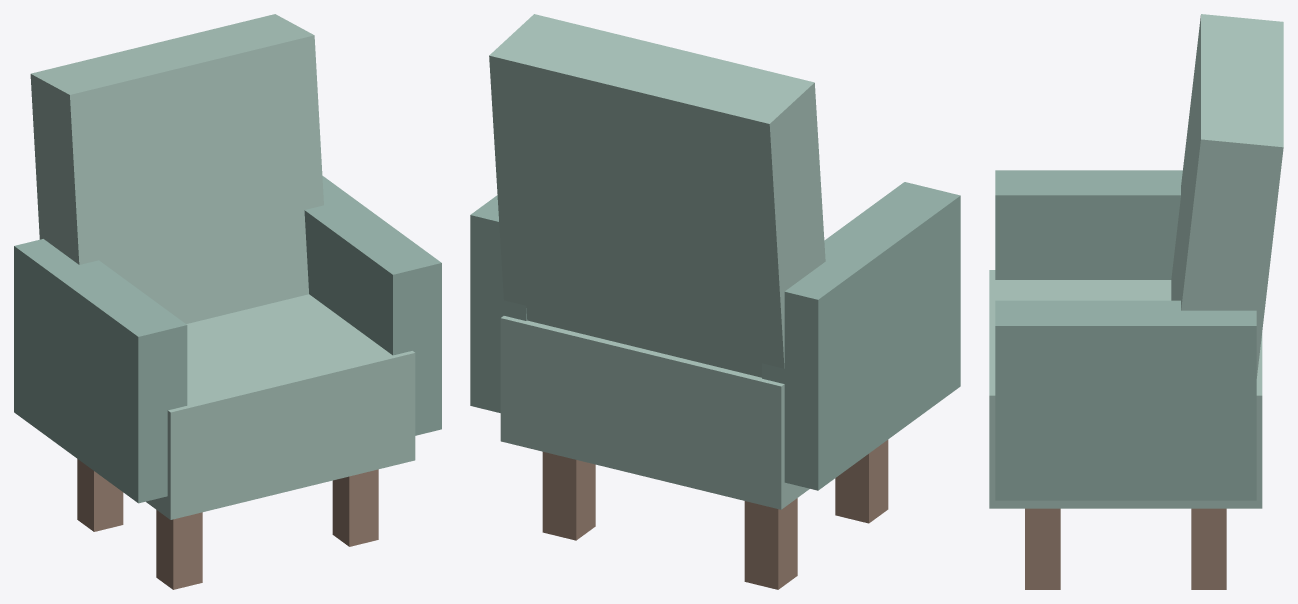
The model's file is reading-armchair.glb.
The picture shows the model from 3 angles, left to right: view 1: azimuth 30°, elevation 25°; view 2: azimuth 150°, elevation 25°; view 3: azimuth 270°, elevation 25°; orthographic projection. The views are drawn at different scales.
Parts seen in each view (by area): view 1: chair-back, chair-seat, arm-left, arm-right, leg-3, leg-4, leg-1; view 2: chair-back, arm-left, chair-seat, arm-right, leg-1, leg-2, leg-3; view 3: arm-right, chair-back, arm-left, chair-seat, leg-2, leg-4.
Boxes of the visible parts, x1,y1,x2,y2 form: chair-back: (30,14,323,323); chair-seat: (146,294,415,519); arm-left: (14,239,187,503); arm-right: (304,175,441,435); leg-3: (156,510,202,589); leg-4: (332,469,378,546); leg-1: (77,459,123,531); chair-back: (489,14,825,377); arm-left: (762,182,960,490); chair-seat: (500,316,809,509); arm-right: (470,195,527,412); leg-1: (744,498,797,589); leg-2: (542,452,595,540); leg-3: (835,440,888,523); arm-right: (995,300,1256,500); chair-back: (1171,14,1283,378); arm-left: (995,170,1182,279); chair-seat: (989,270,1262,508); leg-2: (1191,508,1226,589); leg-4: (1025,508,1060,589).
Size of the model in its own units: 1.24 by 1.71 by 0.9915.
